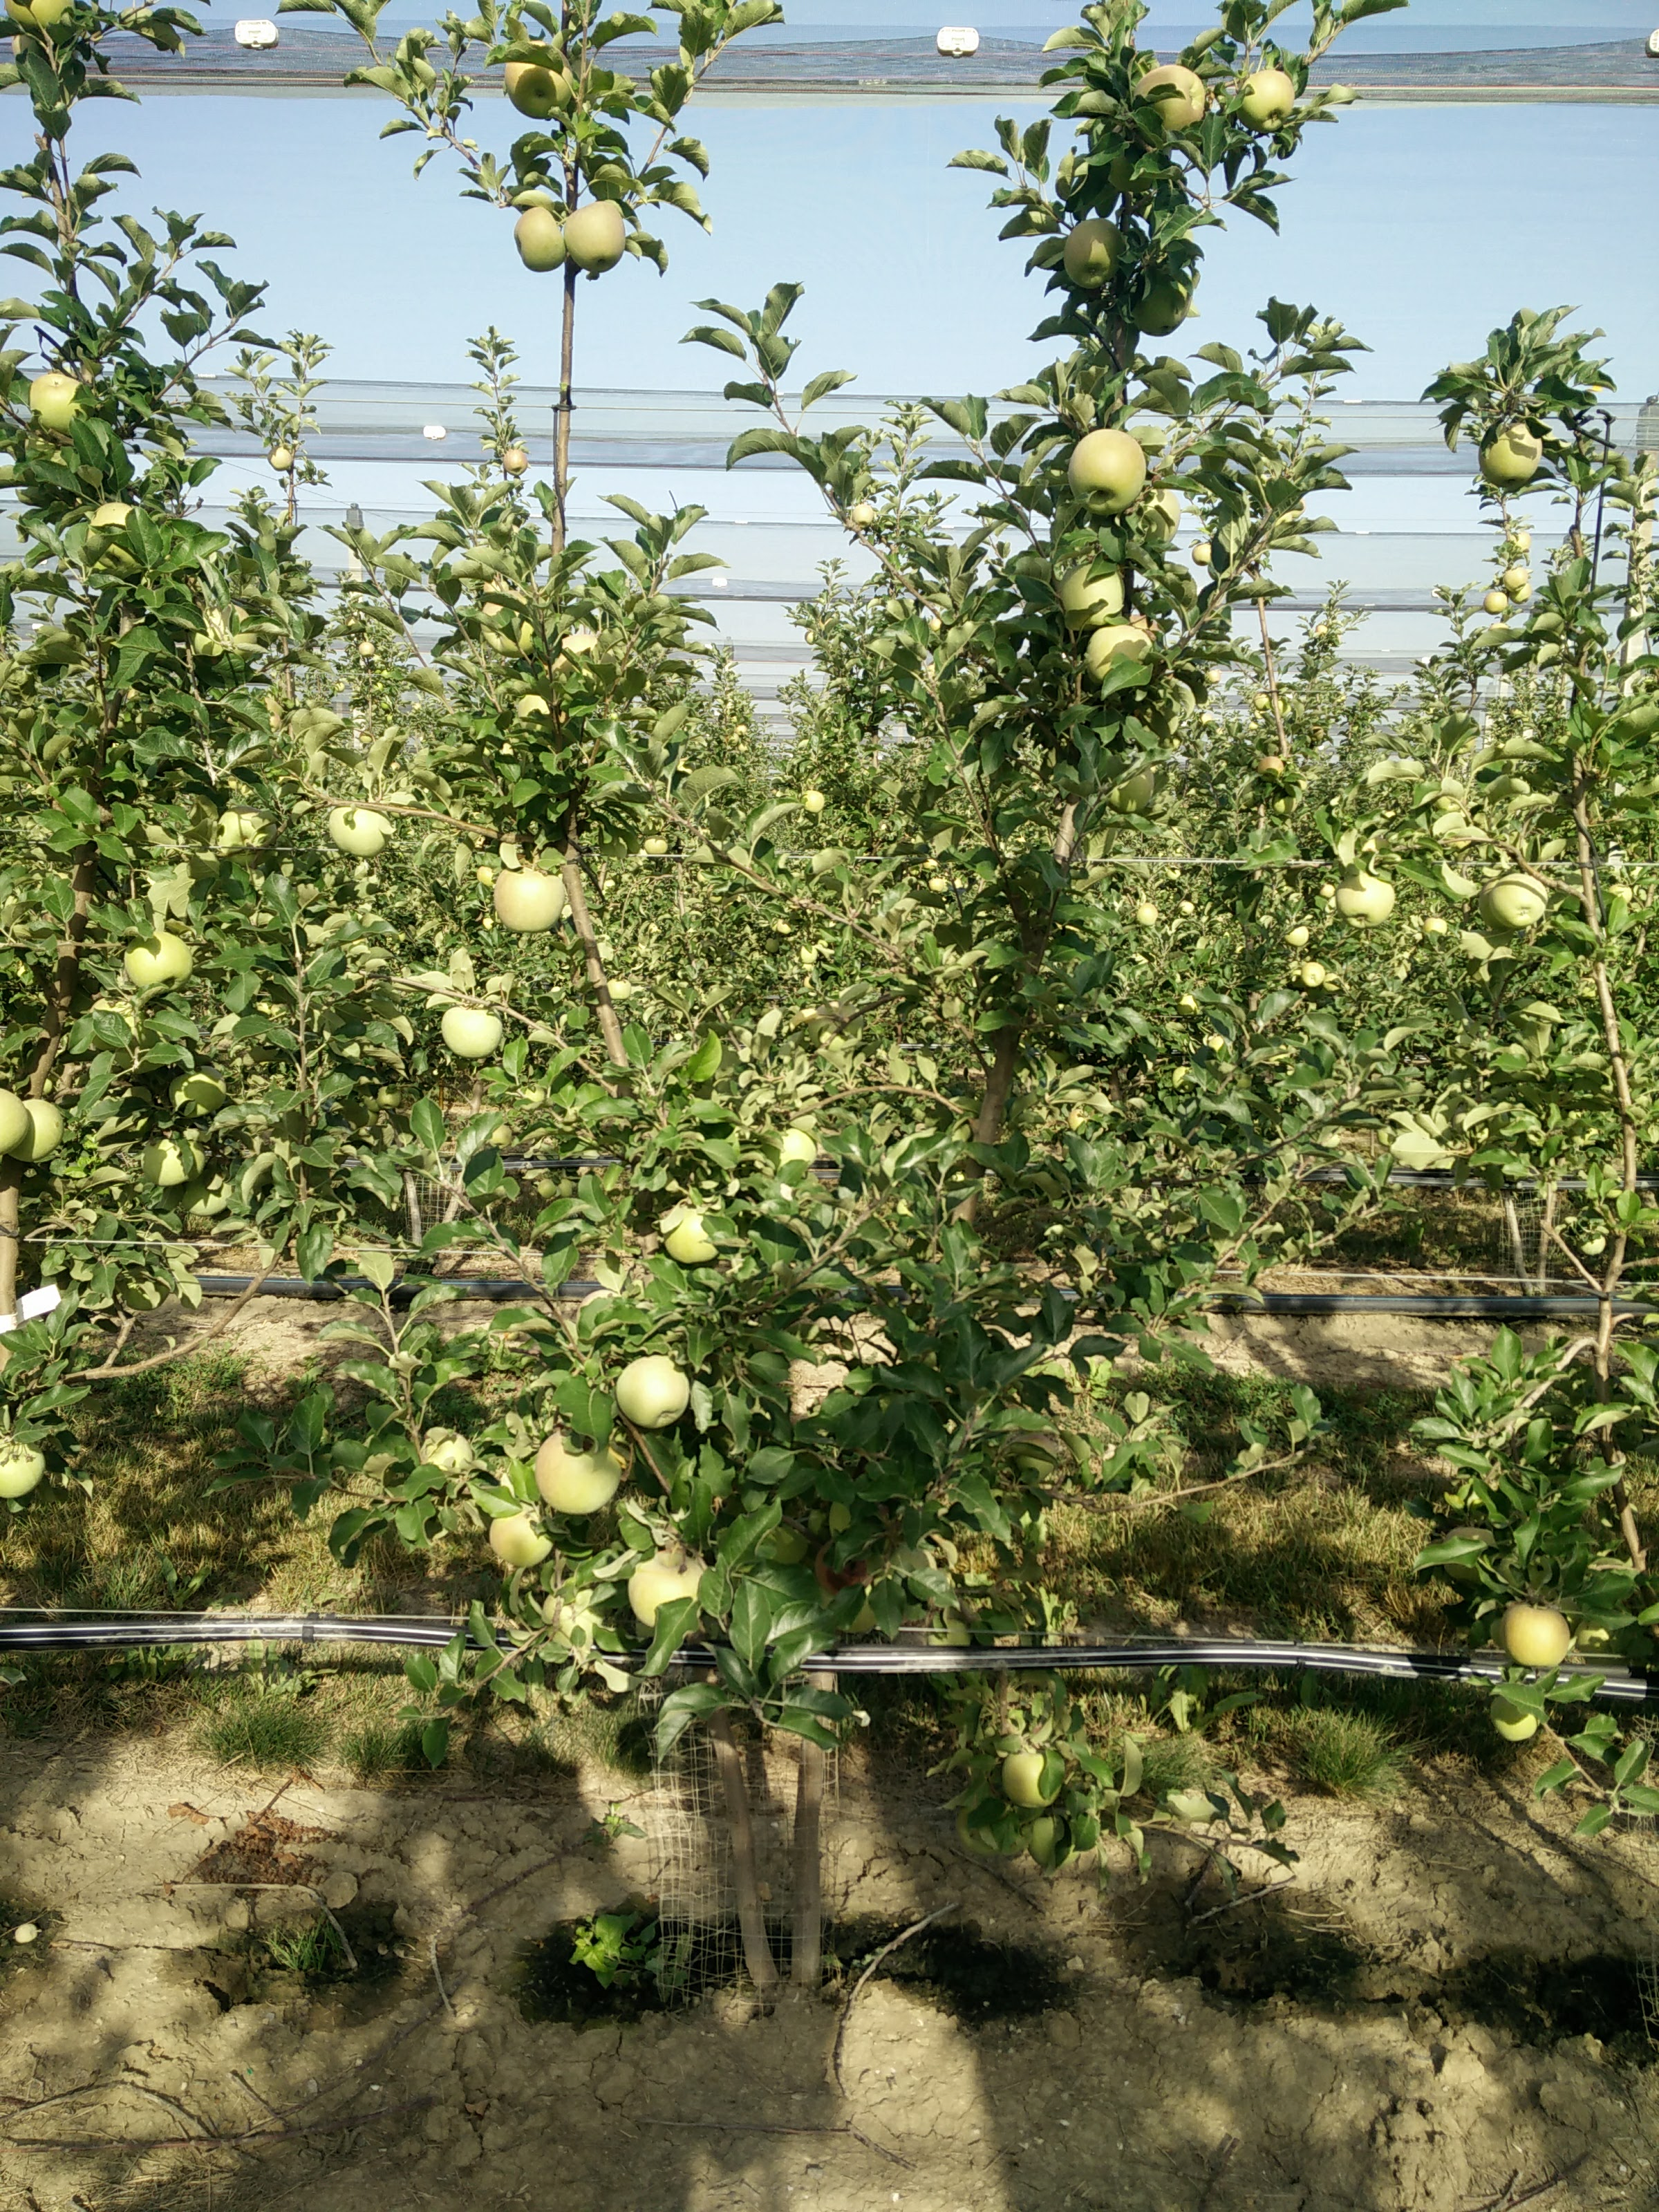apple: (531, 1427, 621, 1513), (1061, 429, 1145, 512), (627, 1548, 710, 1629), (608, 1356, 693, 1433), (489, 861, 566, 936), (1124, 62, 1203, 135), (118, 928, 194, 998), (560, 200, 627, 277), (1500, 1600, 1573, 1670), (1050, 561, 1126, 626), (505, 194, 568, 273), (1474, 419, 1543, 488), (24, 366, 91, 431), (435, 994, 503, 1060), (489, 1502, 554, 1568), (1060, 219, 1123, 288), (328, 796, 395, 857), (1334, 868, 1399, 930), (1485, 868, 1549, 929)
